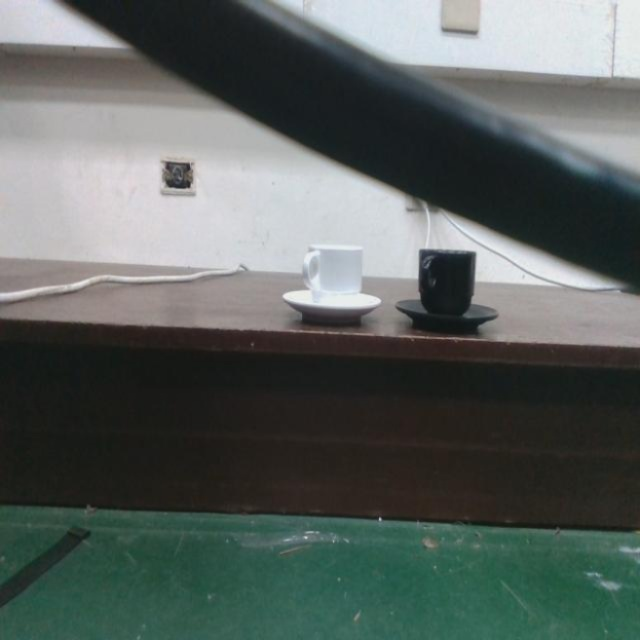black: (392, 244, 500, 337)
white: (282, 240, 382, 332)
